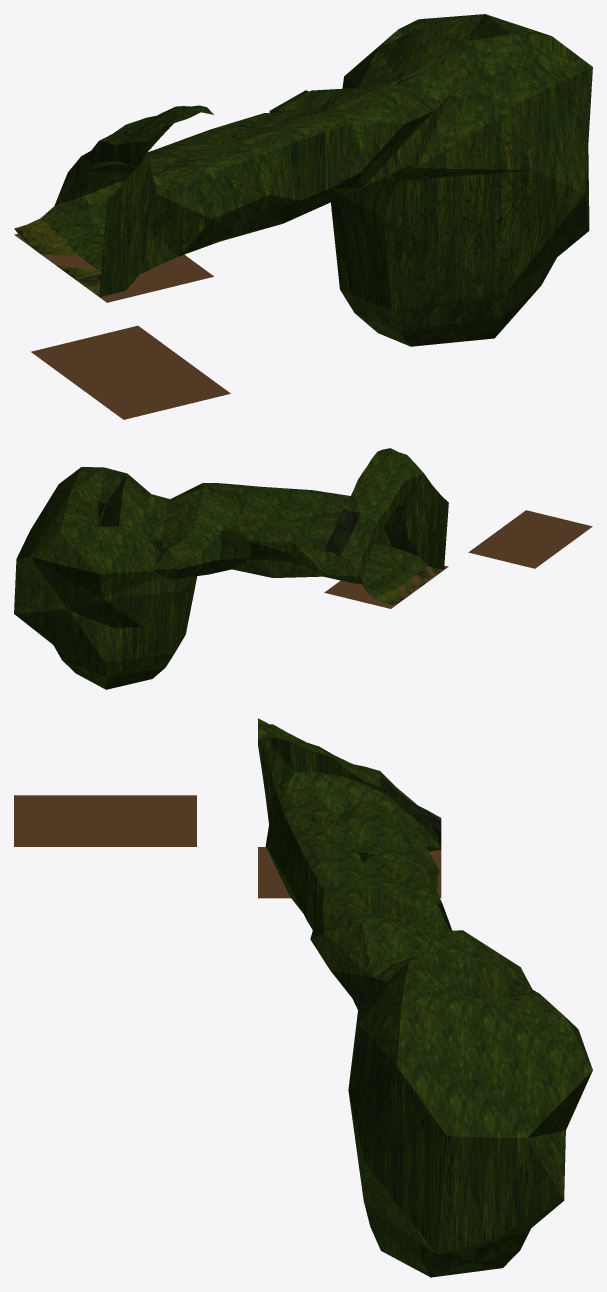
File: cave.obj
The picture shows the model from 3 angles, top to bottom: view 1: azimuth 30°, elevation 25°; view 2: azimuth 150°, elevation 25°; view 3: azimuth 270°, elevation 25°; orthographic projection. The views are drawn at different scales.
Parts seen in each view (by area): view 1: obj10, align0, Cluster56, Helper, Cluster92, Cluster88; view 2: obj10, align0, Cluster56, Helper, Cluster80, Cluster78, Cluster84, Cluster48, Cluster64, Cluster62, Cluster82, Cluster52 (+2 smaller); view 3: obj10, align0, Helper.
Part boxes in pixels (x1,y1,x2,y2): obj10: [41, 14, 592, 346]; align0: [31, 325, 230, 419]; Cluster56: [93, 171, 133, 296]; Helper: [14, 234, 213, 302]; Cluster92: [14, 218, 55, 244]; Cluster88: [29, 232, 71, 255]; obj10: [14, 464, 431, 689]; align0: [468, 510, 592, 568]; Cluster56: [423, 485, 448, 573]; Helper: [324, 565, 448, 608]; Cluster80: [350, 512, 376, 547]; Cluster78: [334, 508, 359, 536]; Cluster84: [341, 537, 366, 569]; Cluster48: [389, 452, 415, 480]; Cluster64: [370, 481, 395, 510]; Cluster62: [353, 472, 379, 497]; Cluster82: [324, 530, 349, 555]; Cluster52: [379, 465, 405, 494]; obj10: [258, 737, 592, 1277]; align0: [14, 795, 196, 846]; Helper: [258, 847, 441, 898].
Size of the model in its own units: 509 by 262 by 379.
5 materials, 5 textured.
